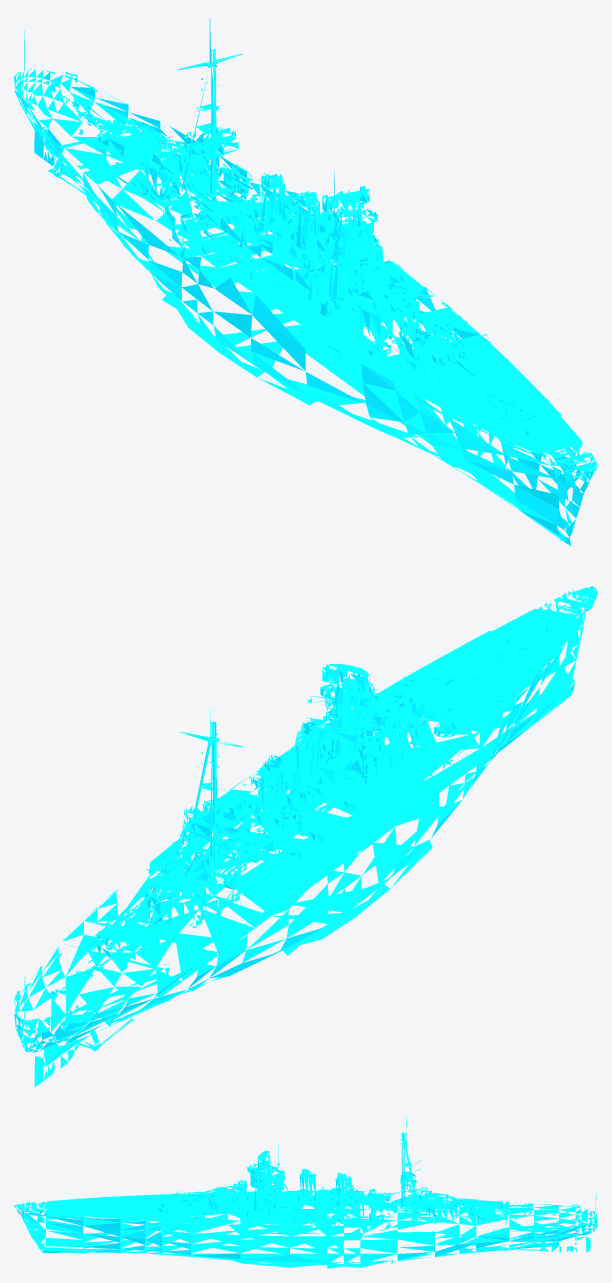
The model's file is TST_CESARE.glb.
3 renders of one model, top to bottom at view 1: azimuth 30°, elevation 25°; view 2: azimuth 150°, elevation 25°; view 3: azimuth 270°, elevation 25°, orthographic. The views are drawn at different scales.
Bounding box in the file's own units: 1.87 × 3.23 × 12.42.
